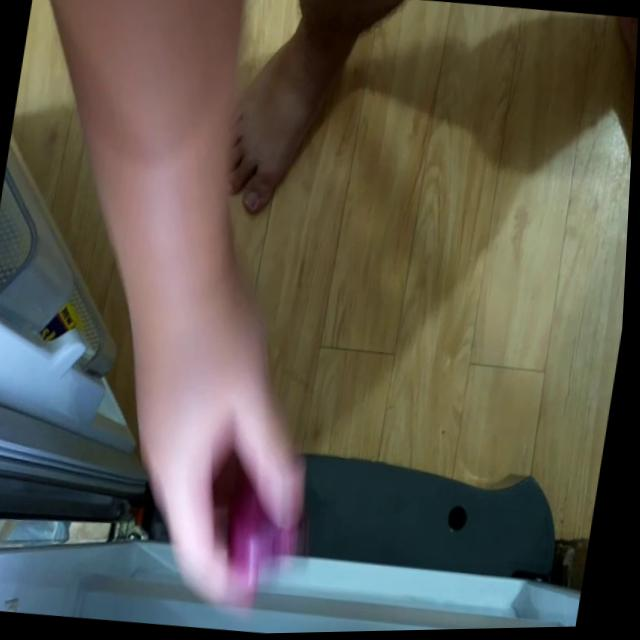onion: (227, 486, 312, 577)
